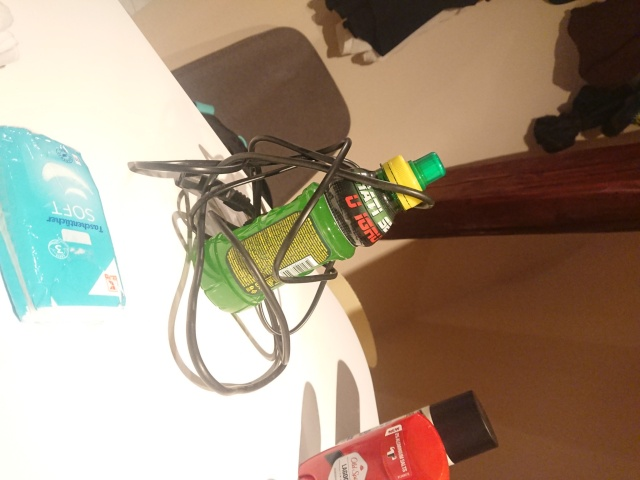Vindi Iso Sport Lemon-Grapefruit 500mL: (189, 149, 449, 316)
